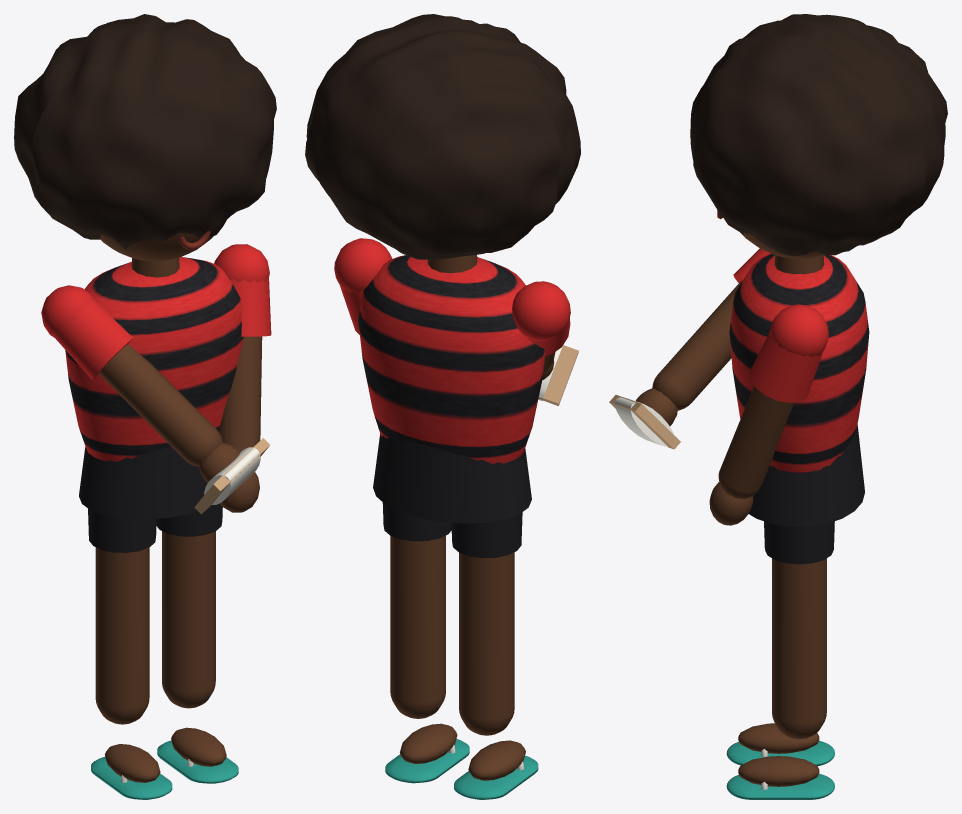
File: black-power.glb
3 renders of one model, left to right at view 1: azimuth 30°, elevation 25°; view 2: azimuth 150°, elevation 25°; view 3: azimuth 270°, elevation 25°, orthographic. The views are drawn at different scales.
Parts seen in each view (by area): view 1: black-power; view 2: black-power; view 3: black-power.
Part boxes in pixels (box(x1,y1,x2,y2)): black-power: box(14, 14, 276, 799); black-power: box(305, 14, 580, 799); black-power: box(609, 14, 947, 799).
Bounding box in the file's own units: 0.6676 × 2.01 × 0.8249.
14 materials, 1 textured.
